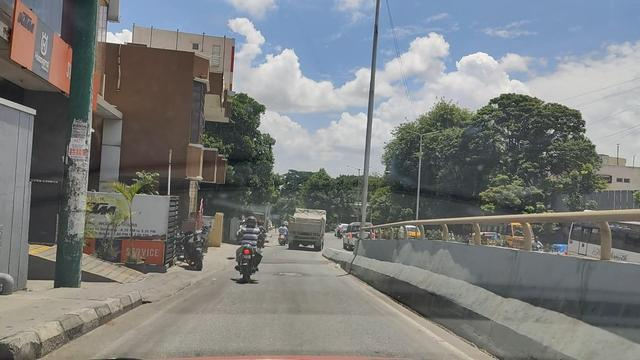HMV: (281, 206, 329, 259)
LMV: (180, 225, 209, 277)
RoadDamages: (269, 262, 308, 280)
